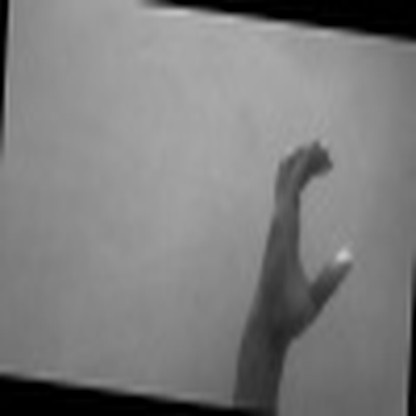c: (256, 133, 356, 336)
